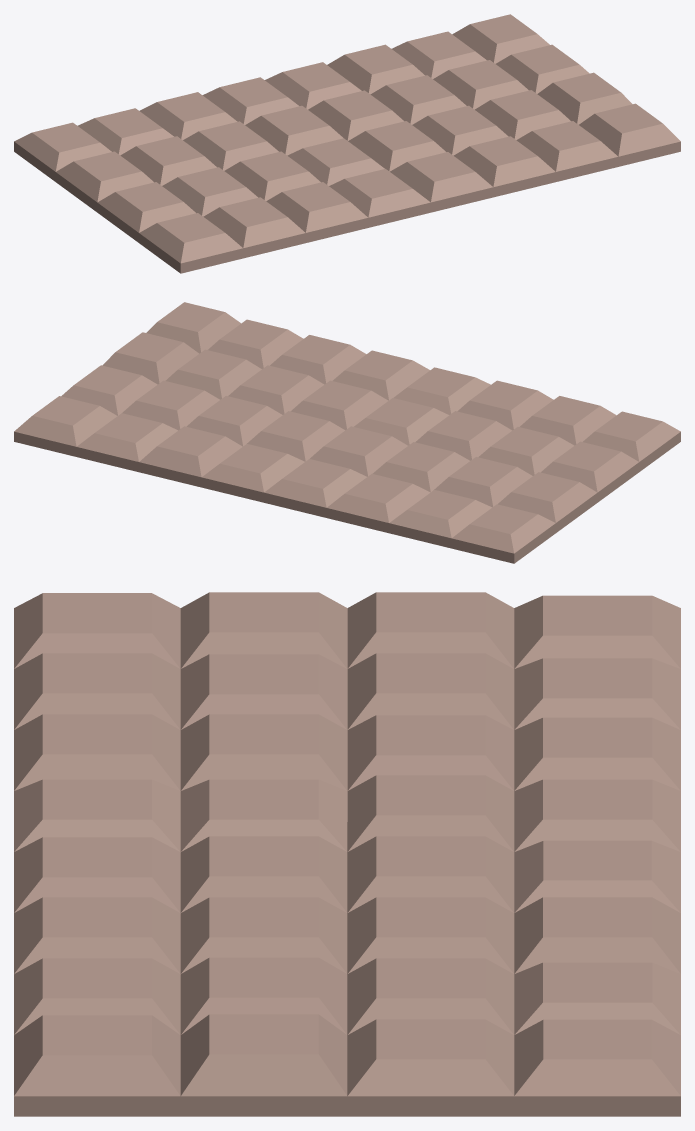
Rendered from chocolate-bar.fbx.
3 views of the same model, one above another, from view 1: azimuth 30°, elevation 25°; view 2: azimuth 150°, elevation 25°; view 3: azimuth 270°, elevation 25° (orthographic). The views are drawn at different scales.
Parts seen in each view (by area): view 1: mesh_1093942527; view 2: mesh_1093942527; view 3: mesh_1093942527.
Boxes of the visible parts, box(x1,y1,x2,y2) form: mesh_1093942527: box(14, 14, 680, 273); mesh_1093942527: box(14, 302, 680, 563); mesh_1093942527: box(14, 592, 680, 1116).
Bounding box in the file's own units: 46.34 × 2.29 × 26.76.
